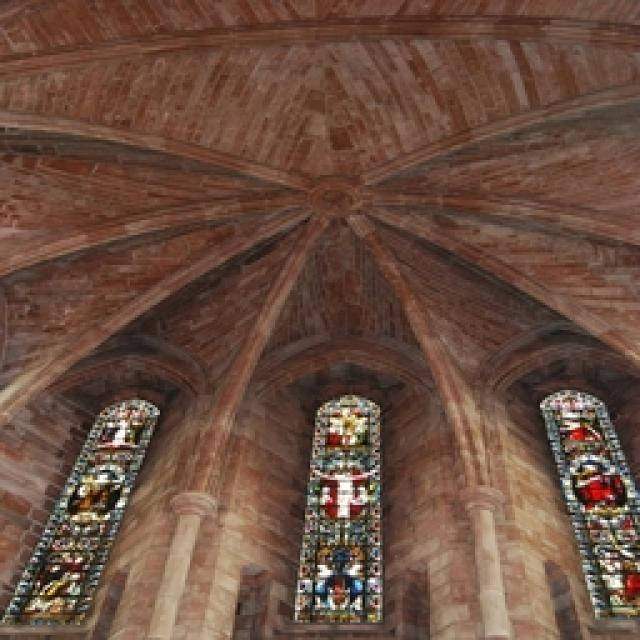Abbey: (1, 85, 640, 640)
